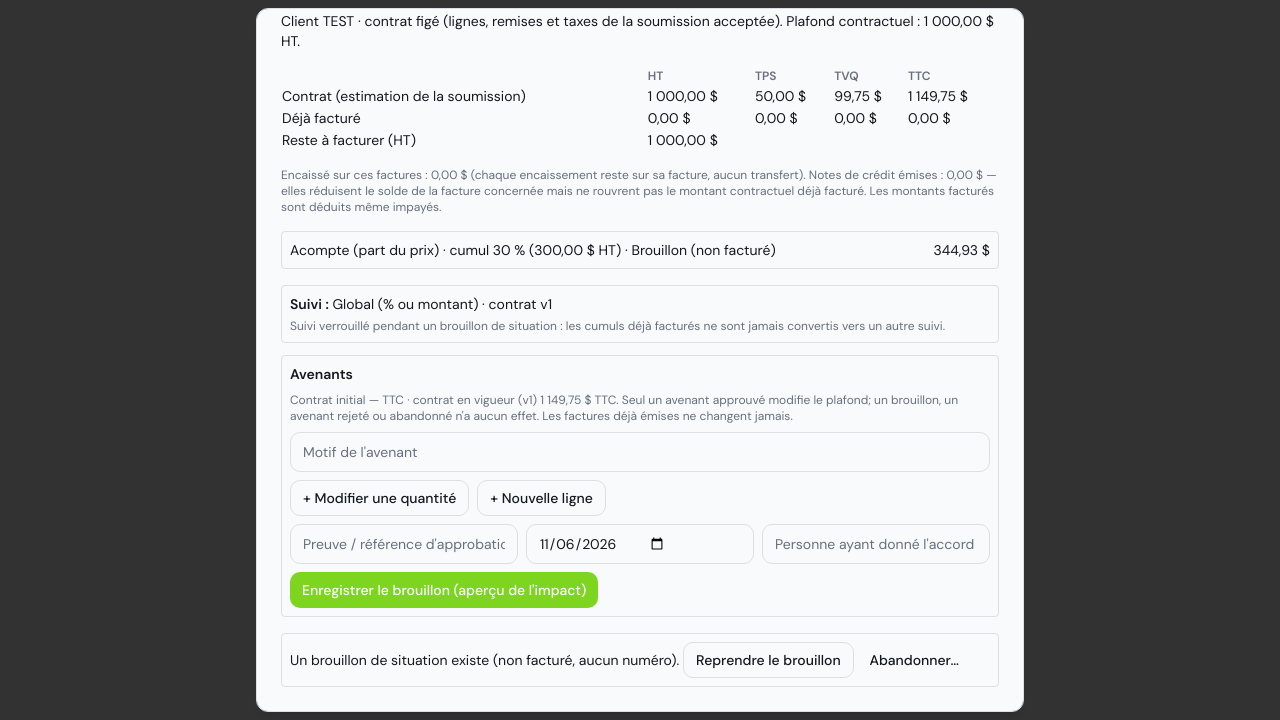
FIN-09B1 relecture — abandon › brouillon modifié ailleurs : conflit explicite, rechargement, aucun nouvel abandon automatique
The image size is (1280, 720).
(page scrolled)
Step 1. Click the button "Abandonner…" → point(914, 660), box [857,642,971,678]
(page scrolled)
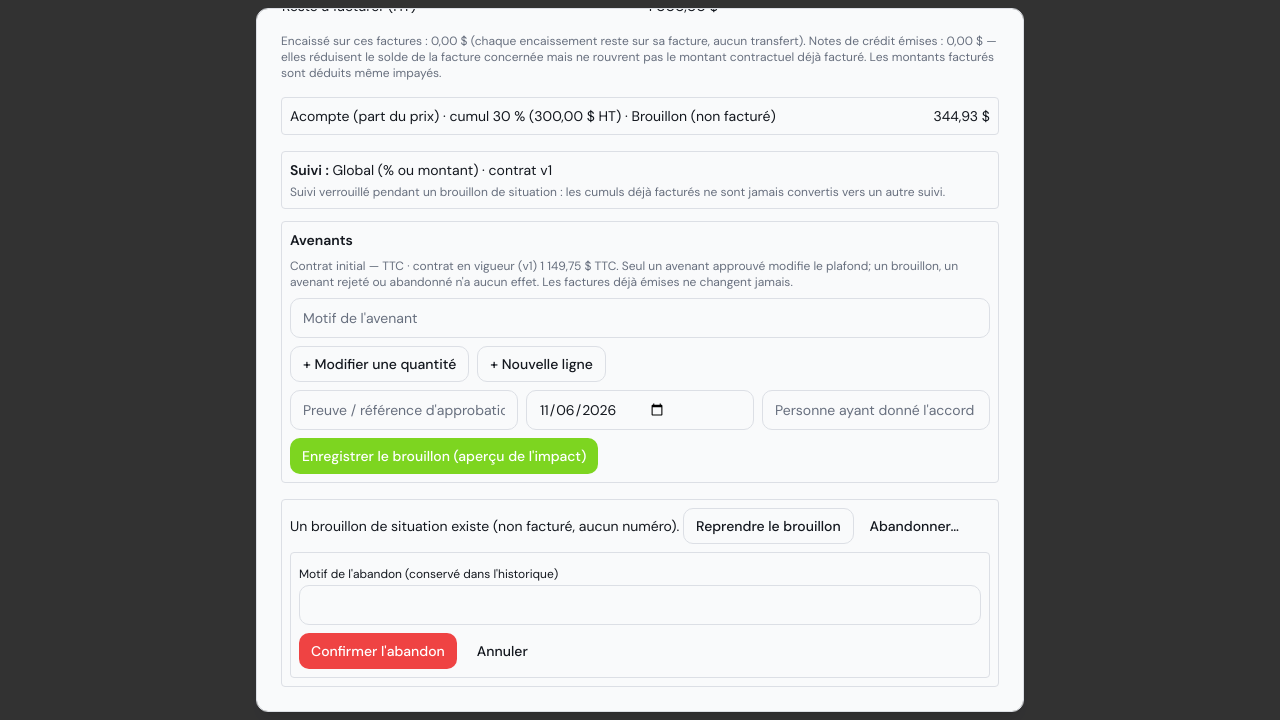
Step 2. Type "Doublon" into the field labelled "Motif de l'abandon" → point(640, 605), box [299,585,981,625]
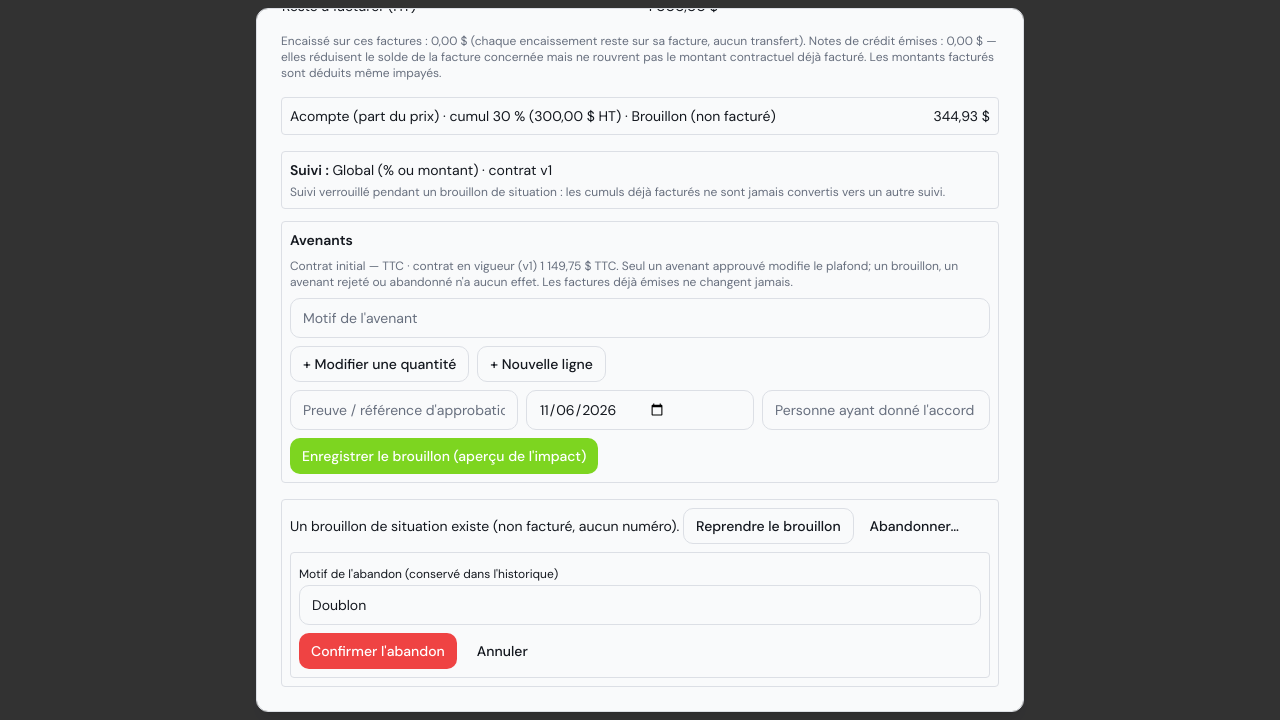
Step 3. Click the button "Confirmer l'abandon" → point(378, 651), box [299,633,457,669]
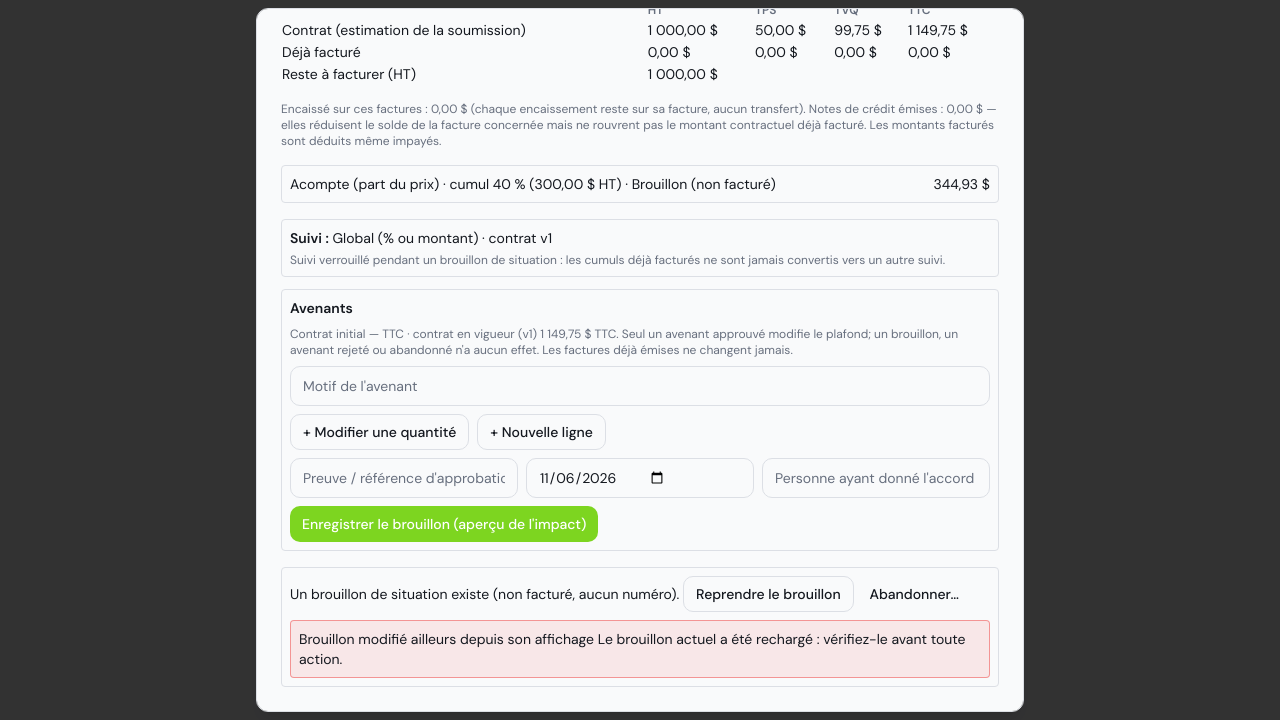
Check: the text "Le brouillon actuel a été rechargé" is shown, box [299,630,966,668]
